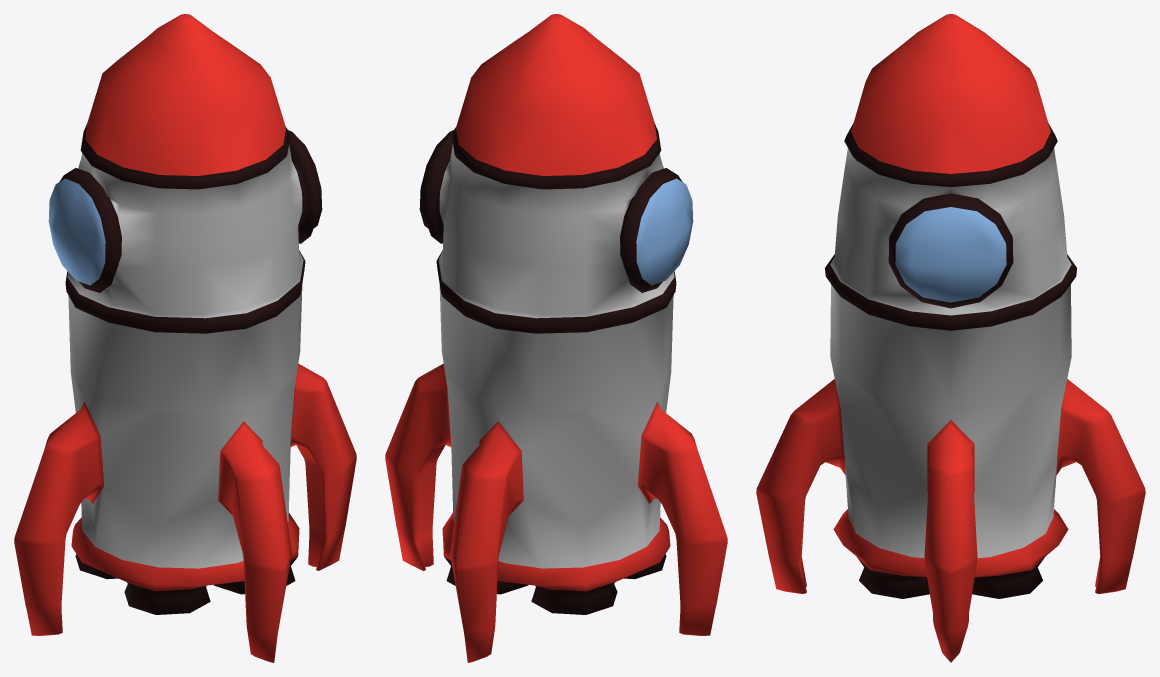
File: Rocket2.0.fbx
3 views of the same model, side by side, from view 1: azimuth 30°, elevation 25°; view 2: azimuth 150°, elevation 25°; view 3: azimuth 270°, elevation 25° (orthographic).
Parts seen in each view (by area): view 1: Rocket; view 2: Rocket; view 3: Rocket.
Part boxes in pixels (x1,y1,x2,y2): Rocket: (14,14,356,662); Rocket: (385,14,727,662); Rocket: (756,14,1145,662).
Bounding box in the file's own units: 2.21 × 3.6 × 2.21.
